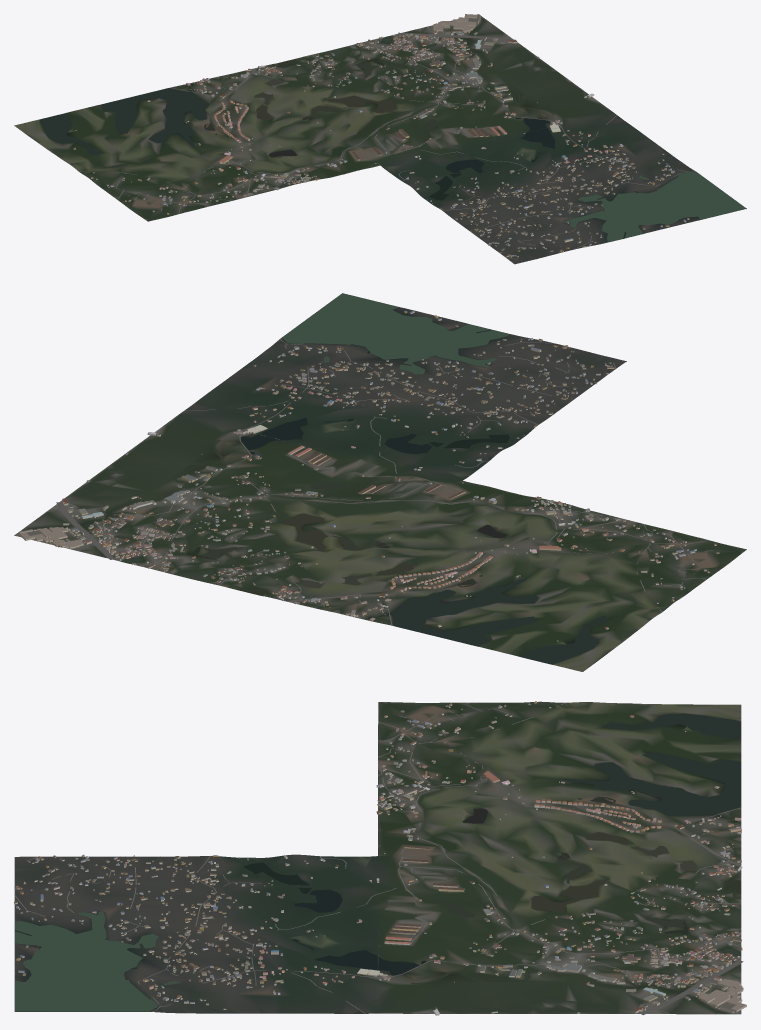
The picture shows the model from 3 angles, top to bottom: view 1: azimuth 30°, elevation 25°; view 2: azimuth 150°, elevation 25°; view 3: azimuth 270°, elevation 25°; orthographic projection. The views are drawn at different scales.
Parts seen in each view (by area): view 1: ground, water, buildings, roads; view 2: ground, water, buildings, roads; view 3: ground, water, buildings, roads.
Part boxes in pixels (x1,y1,x2,y2): ground: (14, 14, 746, 264); water: (39, 17, 745, 241); buildings: (73, 14, 689, 258); roads: (79, 19, 695, 259); ground: (14, 293, 746, 671); water: (21, 293, 609, 664); buildings: (19, 310, 719, 641); roads: (40, 338, 712, 625); ground: (14, 701, 741, 1014); water: (15, 713, 741, 1013); buildings: (14, 701, 746, 1015); roads: (14, 702, 743, 1014).
Size of the model in its own units: 2823 by 45.05 by 2828.
